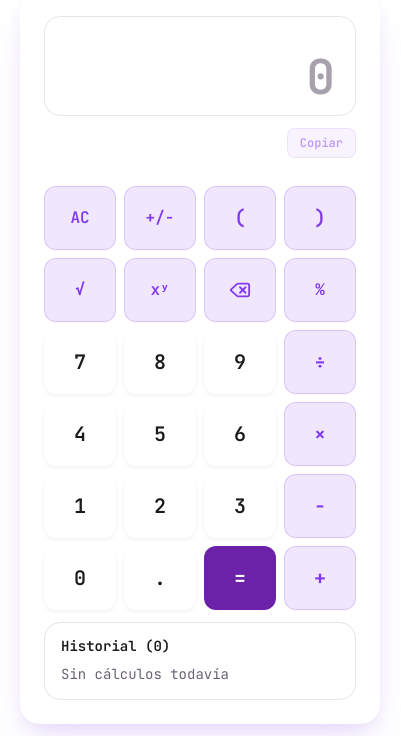
Test case: App › calcula 5 + 3 = 8 y vacía el renglón de operación
Click the button "5". click: (160, 434)
box: [124,402,196,466]
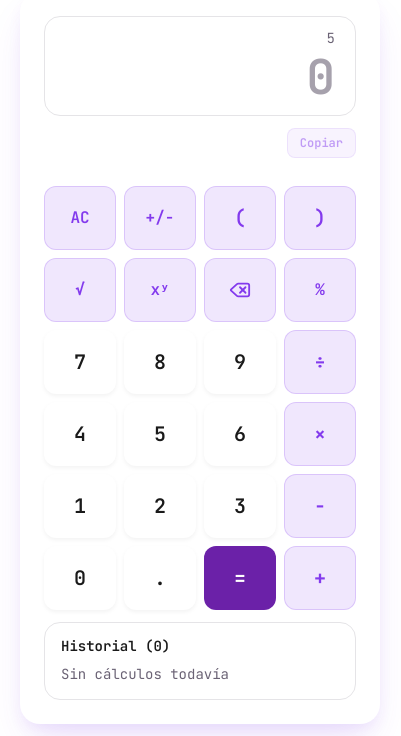
Click the button "+". click: (320, 578)
box: [284,546,356,610]
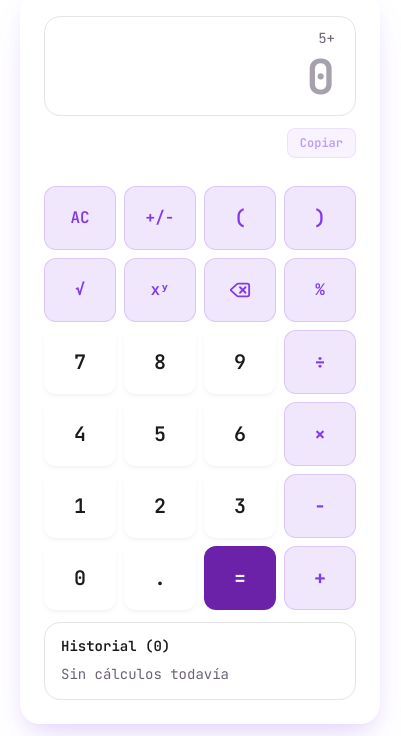
Click the button "3". click: (240, 506)
box: [204,474,276,538]
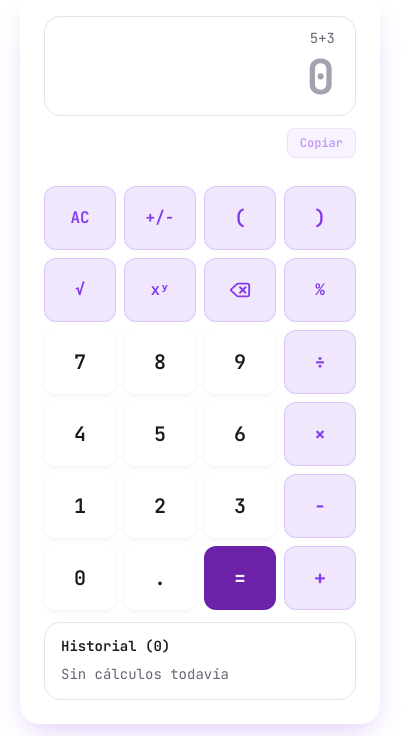
Click the button "=". click: (240, 578)
box: [204,546,276,610]
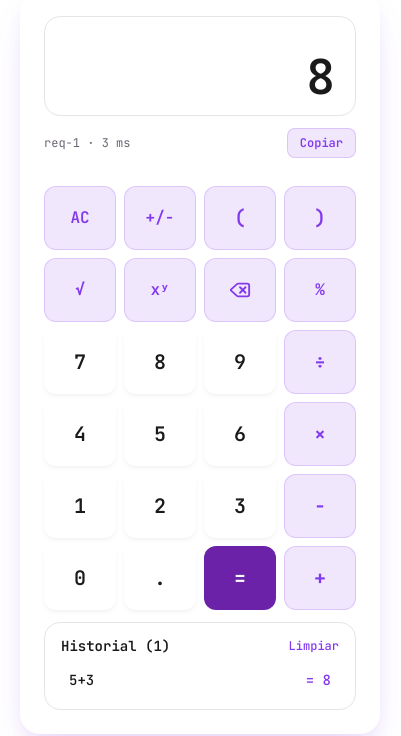
Expected: the text "8" is shown, [306,51,335,103]
Expected: the text "req-1 · 3 ms" is shown, [44,135,130,151]
